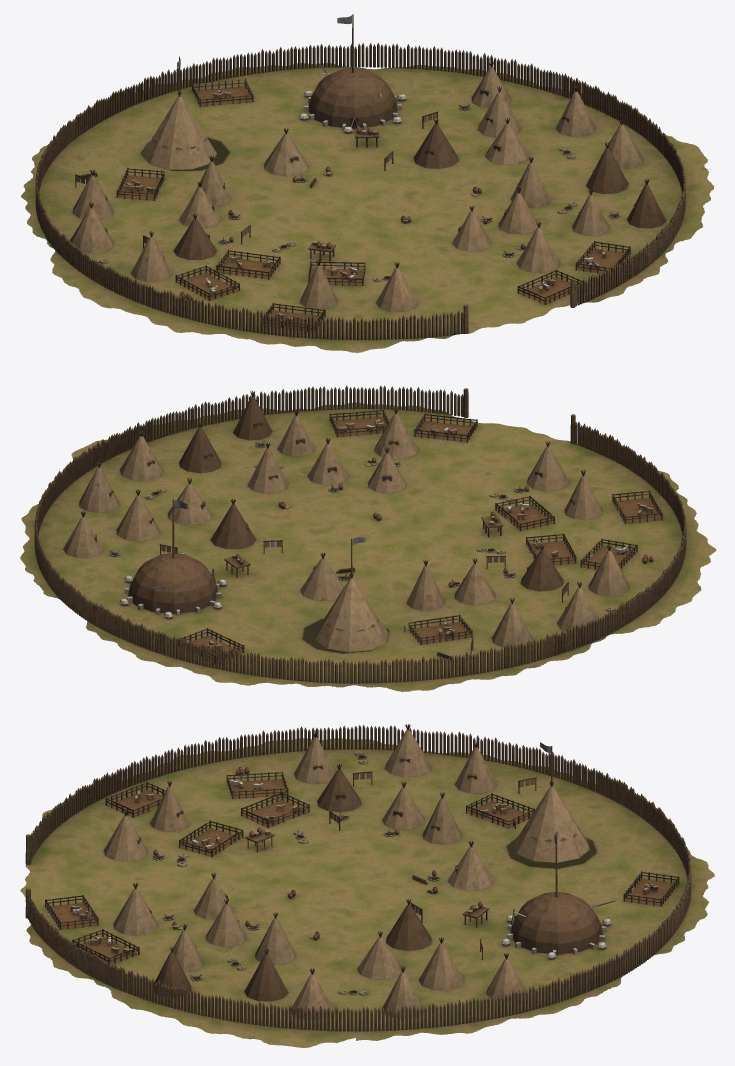
The model's file is stone-town-big-a-steppe.glb.
The picture shows the model from 3 angles, top to bottom: view 1: azimuth 30°, elevation 25°; view 2: azimuth 150°, elevation 25°; view 3: azimuth 270°, elevation 25°; orthographic projection. The views are drawn at different scales.
Visible parts, largest first — view 1: LOD0; view 2: LOD0; view 3: LOD0.
Part boxes in pixels (x1,y1,x2,y2): LOD0: (21, 14, 714, 352); LOD0: (20, 385, 716, 691); LOD0: (20, 724, 714, 1047).
Size of what is drawn, in the model's own units: 8.1 by 1.23 by 7.63.
Materials: 3 (3 with a texture image).
